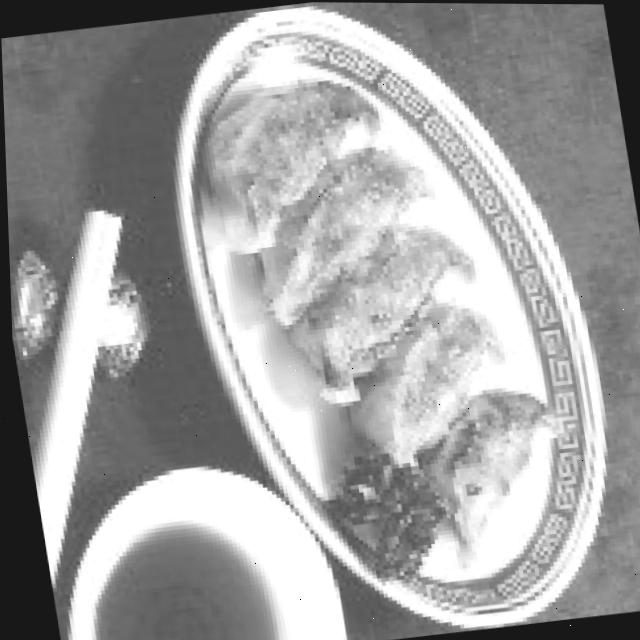带馅早点: (166, 26, 559, 582)
